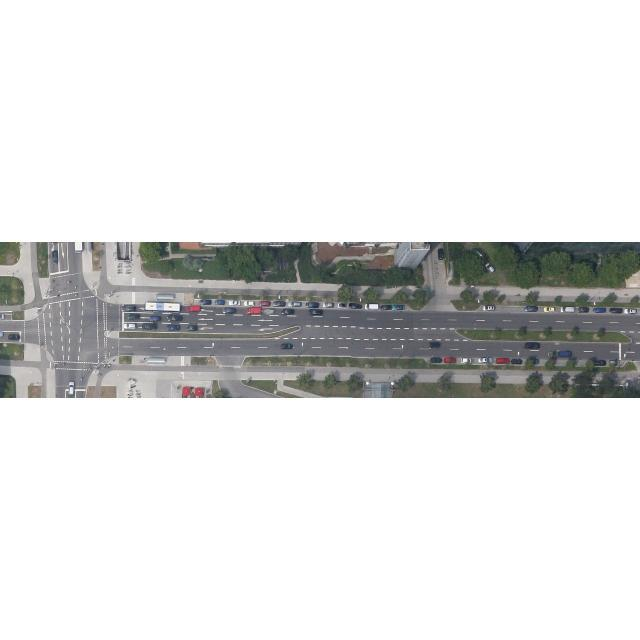vehicle: (484, 262, 496, 274), (122, 304, 134, 312), (526, 342, 540, 348), (558, 351, 572, 357), (143, 323, 157, 329), (68, 381, 74, 395), (168, 315, 182, 321), (186, 306, 200, 312), (246, 308, 260, 314), (308, 309, 322, 315), (560, 306, 574, 312), (167, 324, 180, 330), (222, 307, 235, 313), (8, 334, 20, 340), (52, 252, 58, 264), (128, 313, 140, 319), (282, 309, 294, 315), (438, 248, 444, 260), (444, 357, 456, 363), (496, 357, 508, 363), (594, 360, 606, 366), (624, 308, 636, 314), (610, 308, 622, 314), (525, 306, 537, 312), (366, 304, 378, 310), (306, 302, 318, 308), (511, 358, 522, 364), (150, 316, 160, 322), (264, 308, 274, 314), (609, 360, 619, 366), (544, 306, 554, 312), (381, 304, 391, 310), (323, 302, 333, 308), (244, 300, 254, 306), (230, 300, 240, 306), (430, 342, 440, 348), (478, 358, 492, 362), (124, 324, 136, 328), (593, 308, 605, 312), (393, 305, 405, 309), (349, 304, 361, 308), (338, 302, 346, 308), (288, 302, 300, 306), (431, 358, 442, 362), (282, 344, 292, 348), (187, 326, 197, 330), (461, 358, 471, 362), (578, 308, 588, 312), (484, 306, 494, 310), (274, 302, 284, 306), (259, 302, 269, 306), (200, 300, 210, 304), (548, 352, 556, 356), (216, 300, 224, 304)
